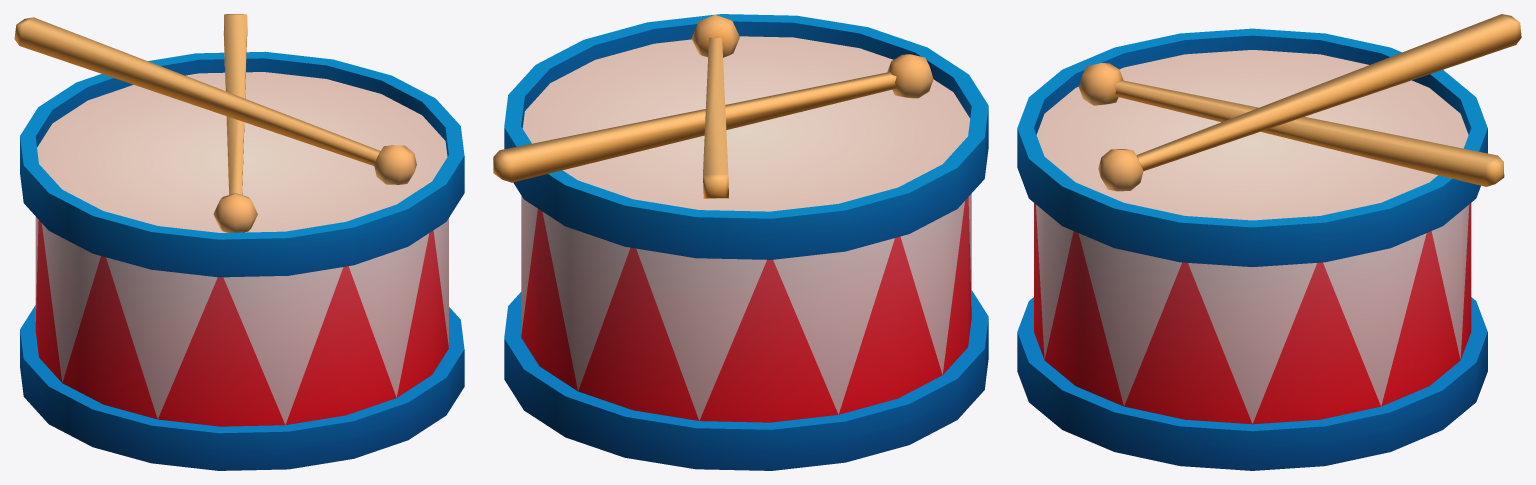
The model's file is drum.fbx.
The picture shows the model from 3 angles, left to right: view 1: azimuth 30°, elevation 25°; view 2: azimuth 150°, elevation 25°; view 3: azimuth 270°, elevation 25°; orthographic projection. The views are drawn at different scales.
Visible parts, largest first — view 1: drum; view 2: drum; view 3: drum.
Boxes of the visible parts, <box> form: drum: <box>14,14,464,470</box>; drum: <box>493,14,988,470</box>; drum: <box>1017,14,1521,470</box>.
Size of the model in its own units: 22.61 by 16.19 by 24.24.
